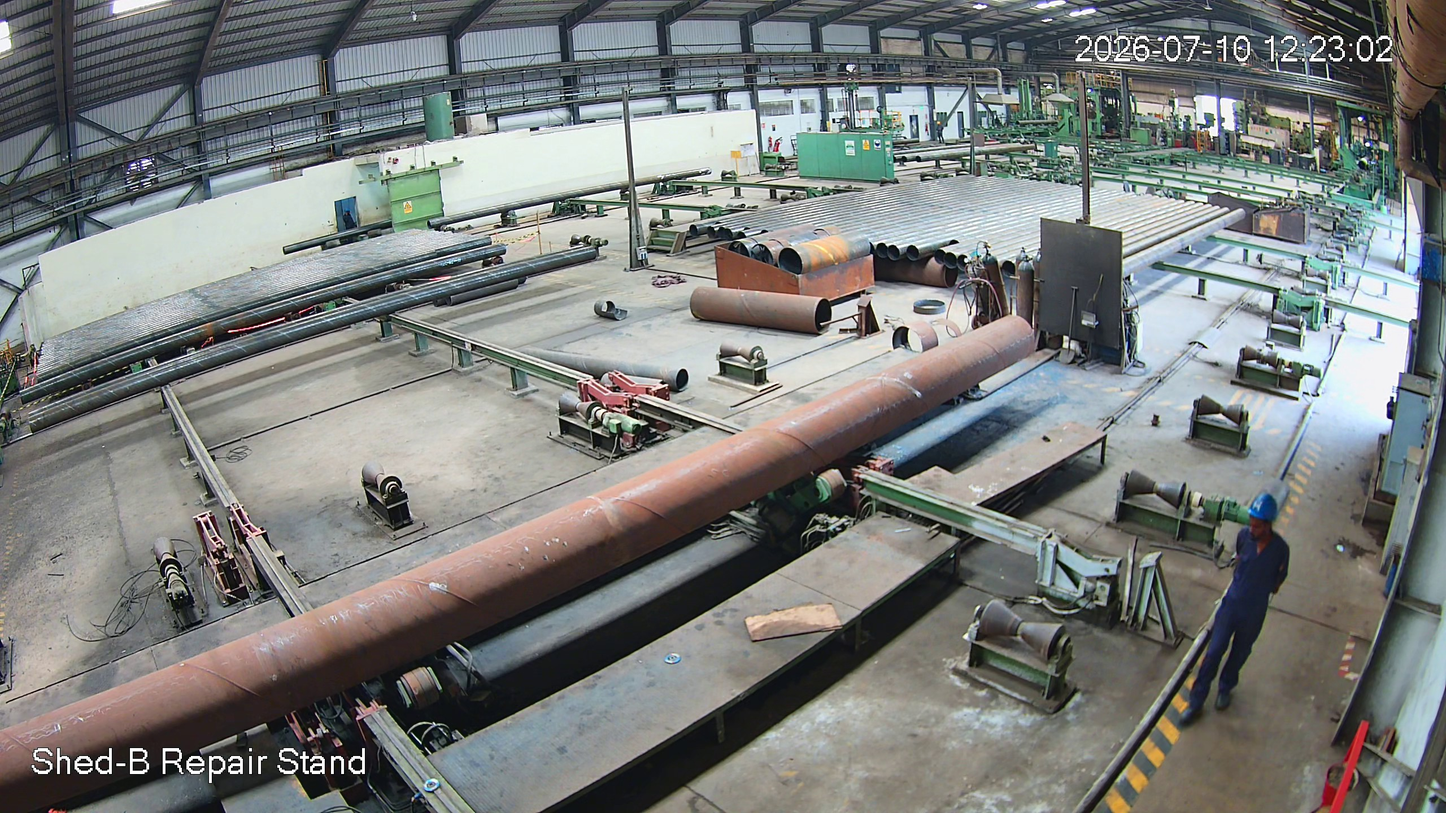Helmet: (1239, 484, 1298, 577)
Person: (1175, 492, 1307, 754)
